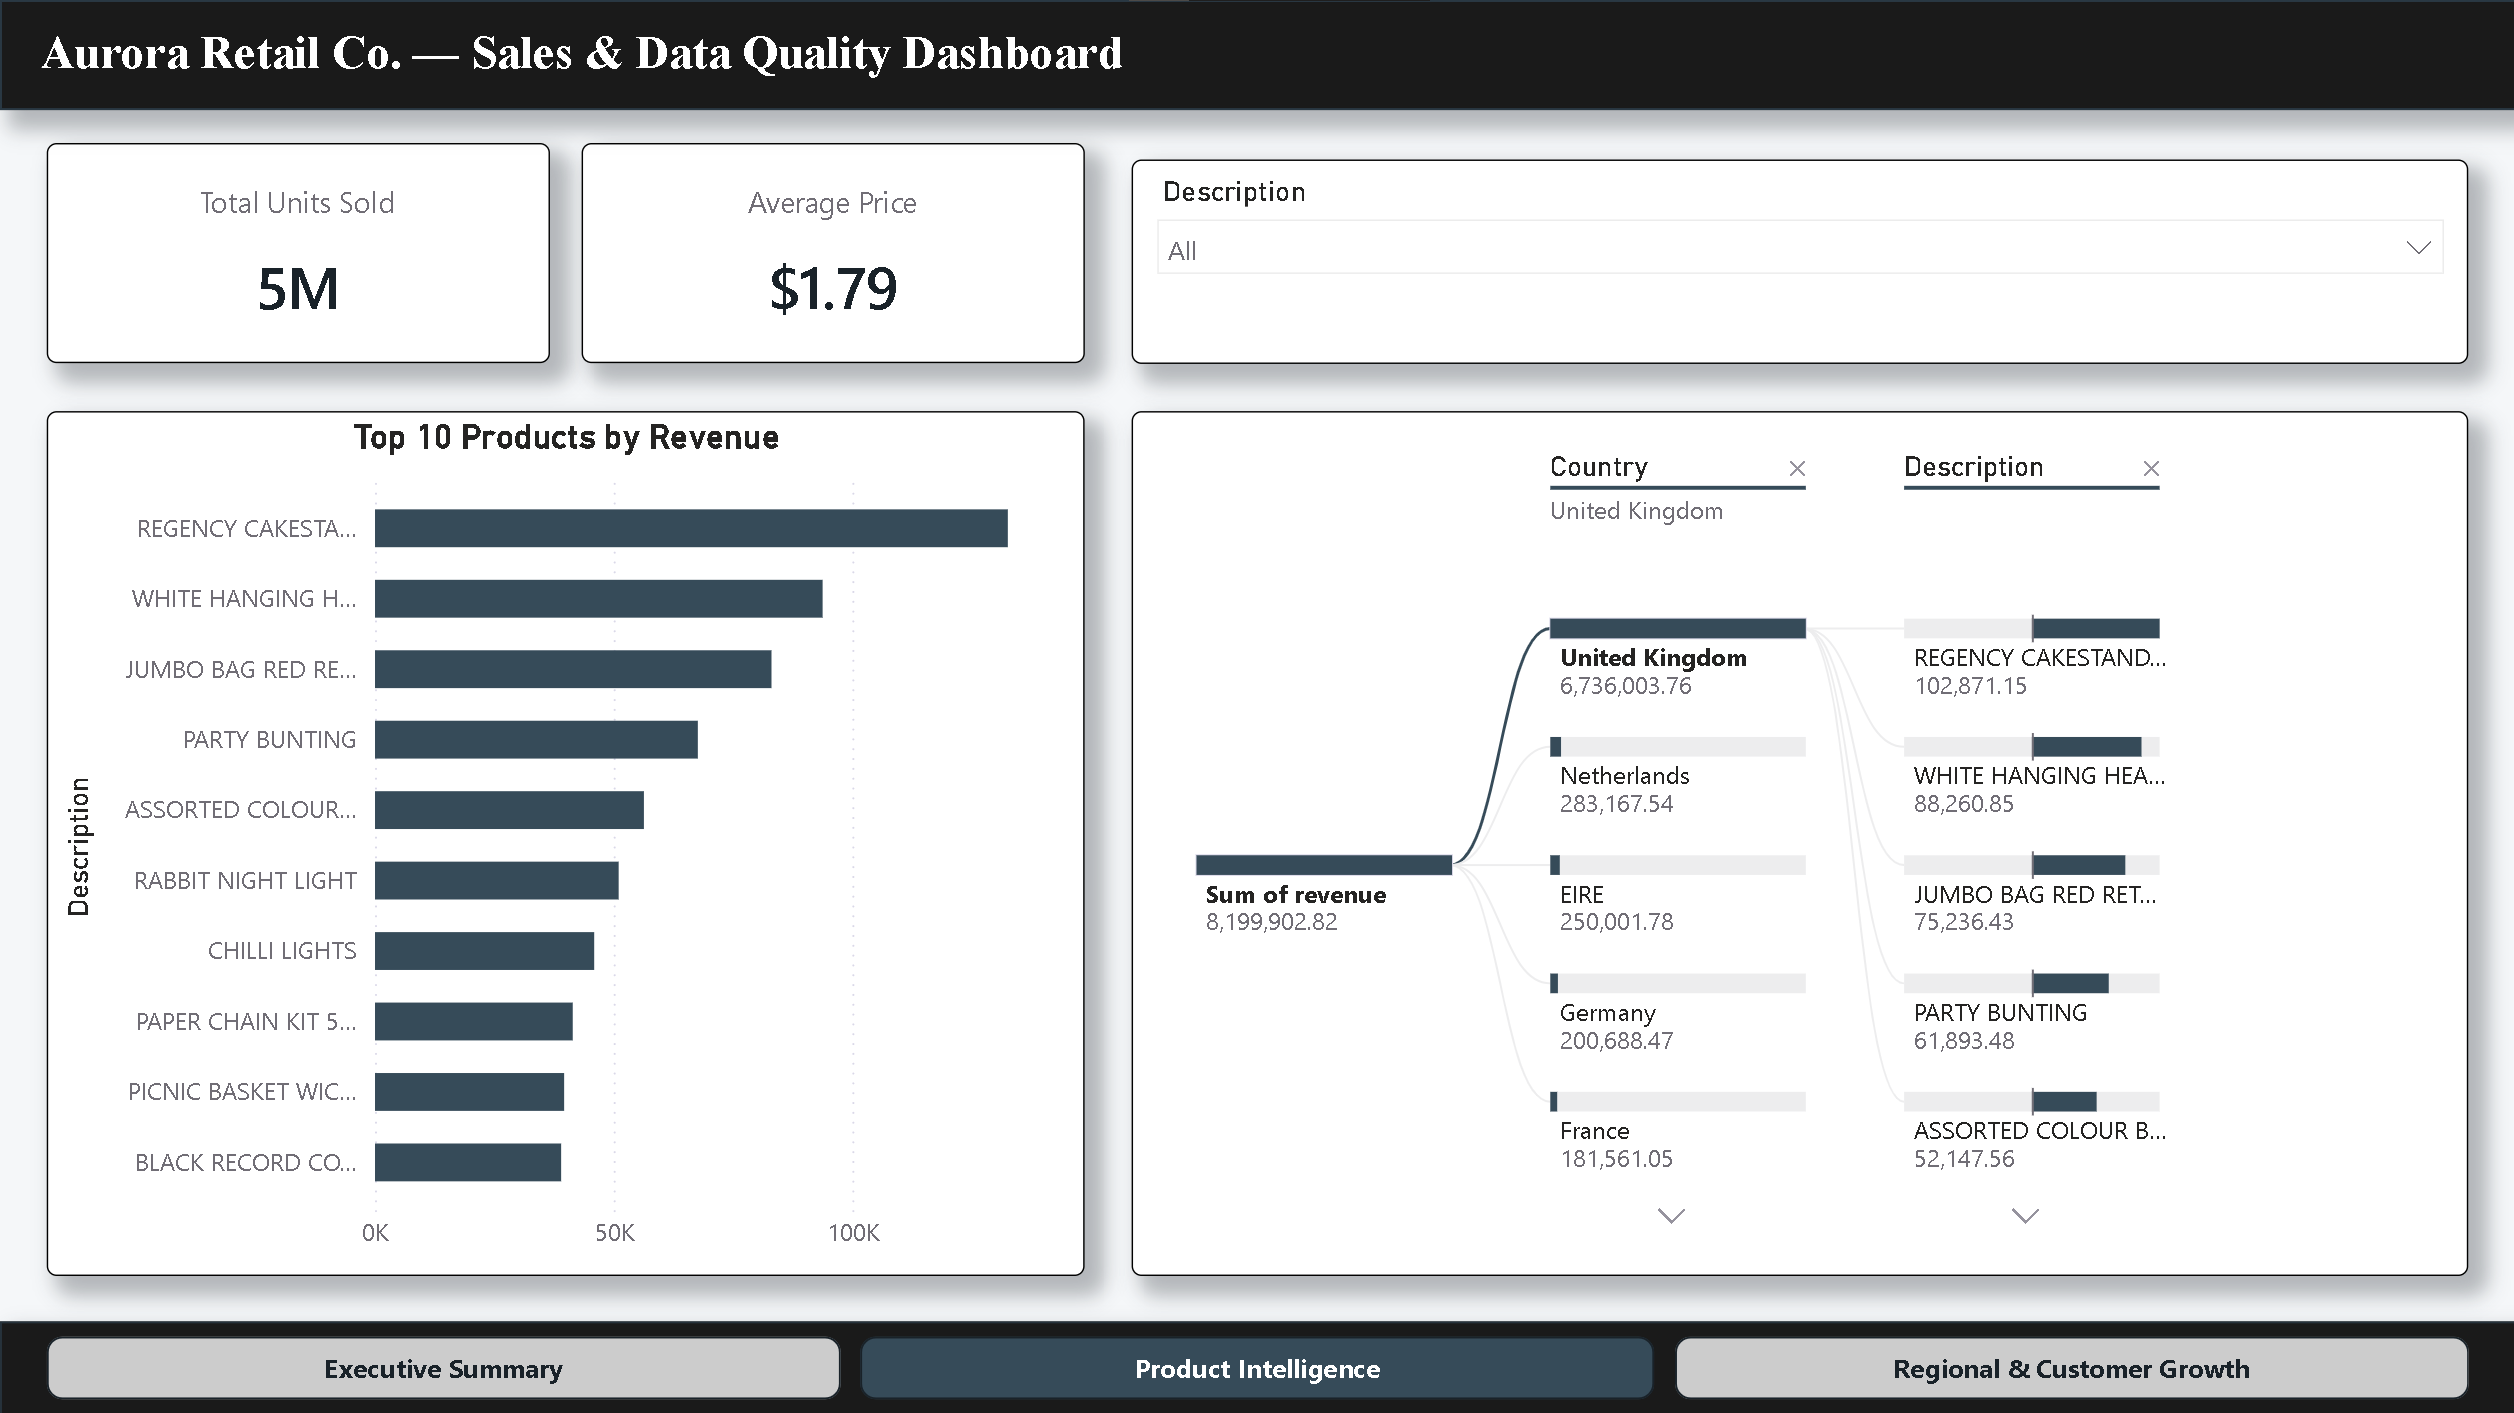

What the dashboard file says about the page in this screenshot:
{"tool":"powerbi","page":{"name":"Product Intelligence","canvas":[1280,720],"ordinal":1},"visuals":[{"type":"shape","box":[0,672,1280,48],"z":0,"group":"g1"},{"type":"shape","box":[0,0,1280,56],"z":1000,"group":"g1"},{"type":"barChart","title":"Top 10 Products by Revenue","fields":{"Category":["vw_retail_base.description"],"Y":["Sum(vw_retail_base.revenue)"]},"box":[24,209,528,440],"z":1000},{"type":"textbox","box":[16,8,680,48],"z":2000,"group":"g1"},{"type":"decompositionTreeVisual","fields":{"Analyze":["Sum(vw_retail_base.revenue)"],"ExplainBy":["vw_retail_base.country","vw_retail_base.description"]},"box":[576,209,680,440],"z":2000},{"type":"pageNavigator","box":[24,680,1232,32],"z":2500,"group":"g1"},{"type":"cardVisual","fields":{"Data":["Sum(vw_retail_base.quantity)"]},"box":[24,73,256,112],"z":3000},{"type":"cardVisual","fields":{"Data":["vw_monthly_revenue.Avg_Price"]},"box":[296,73,256,112],"z":4000},{"type":"slicer","fields":{"Values":["vw_retail_base.description"]},"box":[576,81,680,104],"z":5000},{"type":"group","id":"g1","title":"Group 1","box":[0,0,1280,720],"z":6000}]}

Visuals, with their boxes in screenshot pixels (x1, y1, x2, y2), scaled from the page's 1280x720 canvas onto the 2514x1413 screenshot:
shape: l=0, t=1319, r=2513, b=1412
shape: l=0, t=0, r=2513, b=110
"Top 10 Products by Revenue" barChart: l=47, t=410, r=1084, b=1274
textbox: l=31, t=16, r=1367, b=110
decompositionTreeVisual - Sum(vw_retail_base.revenue) x vw_retail_base.country: l=1131, t=410, r=2467, b=1274
pageNavigator: l=47, t=1334, r=2467, b=1397
cardVisual - Sum(vw_retail_base.quantity): l=47, t=143, r=550, b=363
cardVisual - vw_monthly_revenue.Avg_Price: l=581, t=143, r=1084, b=363
slicer - vw_retail_base.description: l=1131, t=159, r=2467, b=363
"Group 1" group: l=0, t=0, r=2513, b=1412
